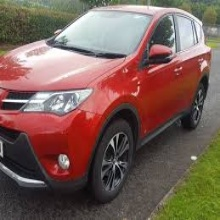no damage: (1, 5, 211, 205)
